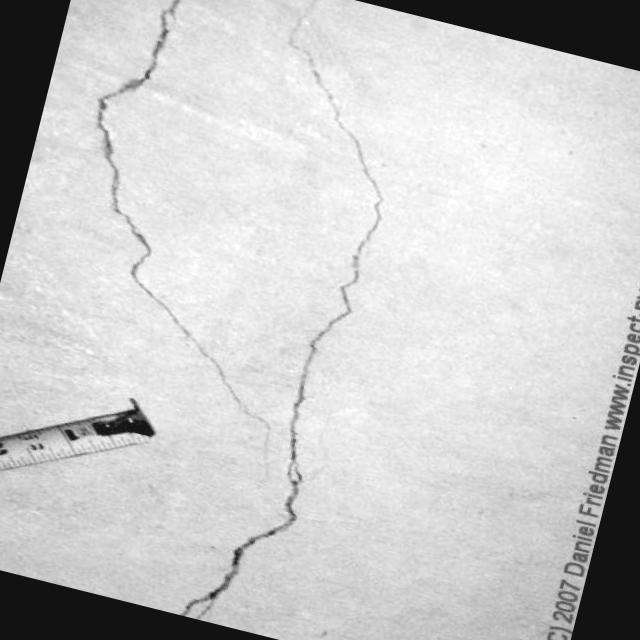crack: (28, 0, 384, 434), (178, 124, 402, 636)
